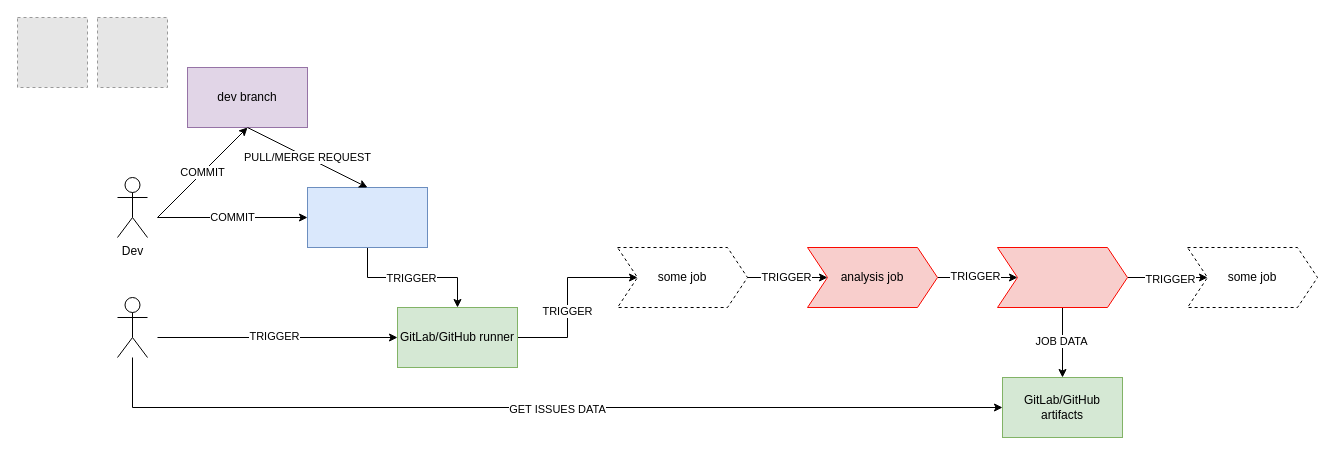
Image size: 1335x455. Some labels were removed from this diagram. Grey dashed boxes stand in for pictures. The shapes that lost their labels are listed below. From the top down, each one's centre as x and y in pixels, then its label:
pixel 367 217: master branch
pixel 1062 277: fetch_issues job
pixel 132 327: Analyst
